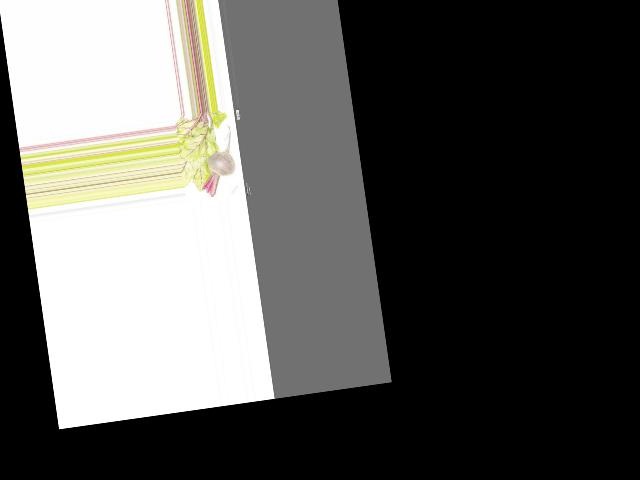beet: (194, 124, 239, 198)
